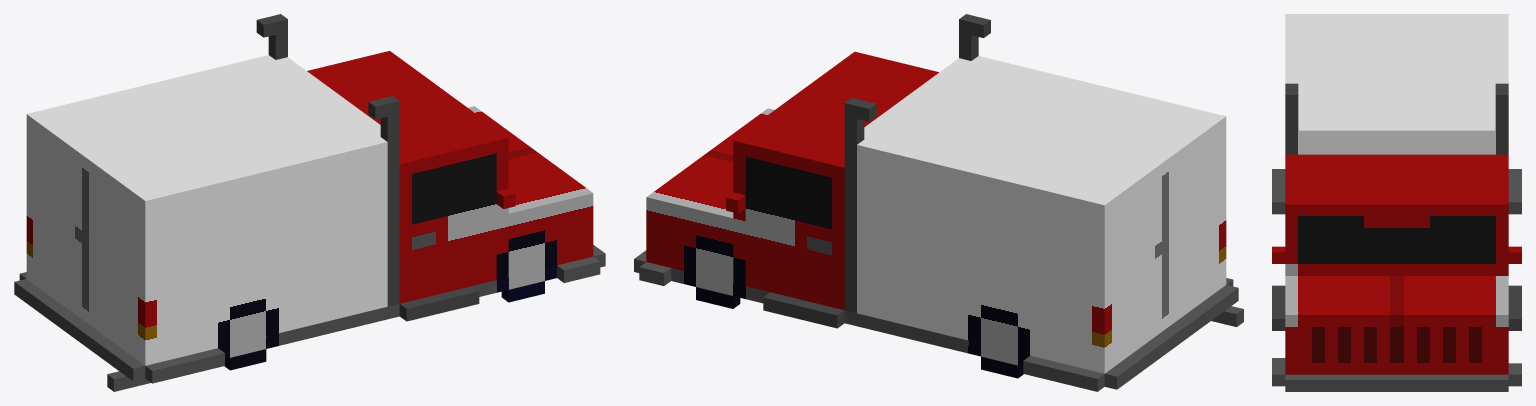
Rendered from RedTruck.dae.
3 views of the same model, side by side, from view 1: azimuth 30°, elevation 25°; view 2: azimuth 150°, elevation 25°; view 3: azimuth 270°, elevation 25° (orthographic). The views are drawn at different scales.
Parts seen in each view (by area): view 1: redtruck.merged; view 2: redtruck.merged; view 3: redtruck.merged.
Boxes of the visible parts, x1,y1,x2,y2 form: redtruck.merged: (14,14,605,391); redtruck.merged: (634,14,1243,391); redtruck.merged: (1272,14,1521,391).
Size of the model in its own units: 4 by 1.9 by 1.8.
1 material, 1 textured.
